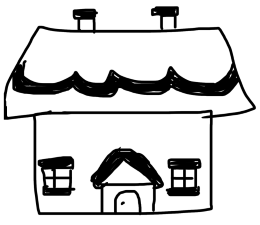big_house: (0, 1, 260, 225)
chimney: (147, 3, 184, 38), (69, 5, 108, 37)
closed_window: (39, 152, 80, 202), (166, 150, 204, 199)
door: (105, 188, 149, 219)
roof: (0, 23, 259, 120)
wall: (29, 101, 220, 220)
